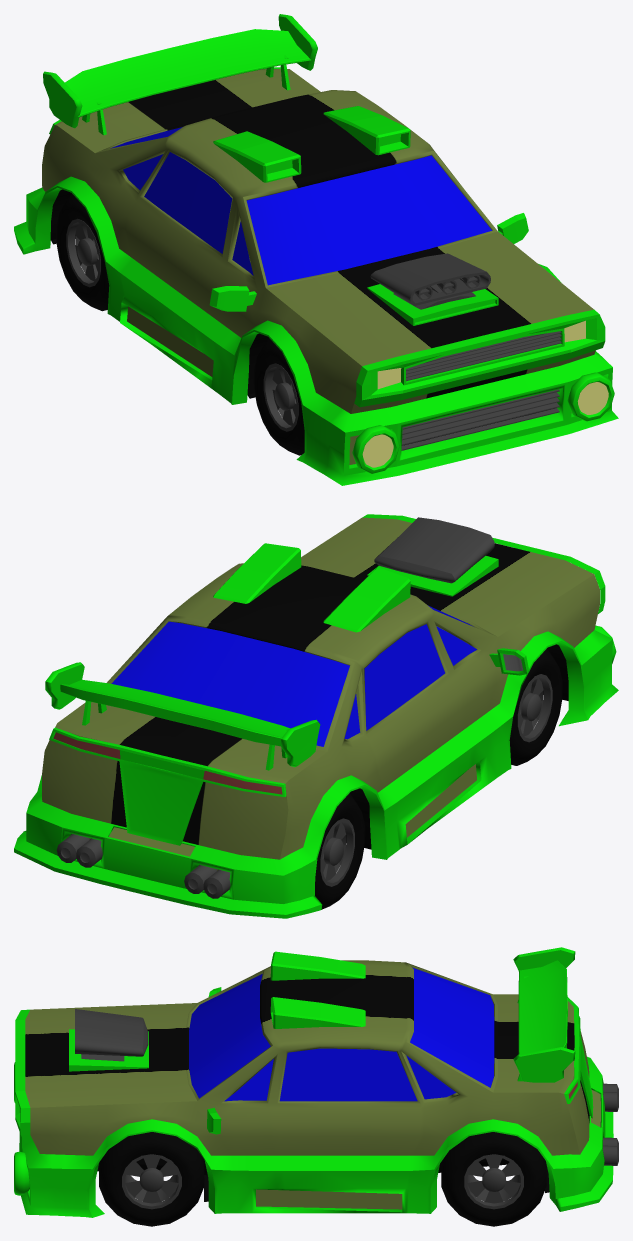
File: Muscle Evolution4 Green LineBlackKaki Blue DarkGrey.glb
3 views of the same model, one above another, from view 1: azimuth 30°, elevation 25°; view 2: azimuth 150°, elevation 25°; view 3: azimuth 270°, elevation 25° (orthographic). The views are drawn at different scales.
Parts seen in each view (by area): view 1: evo4_sillPartR_f1_dupl, evo4_evo4_polySurface1_f1_dupl, evo4_frontGlass_f1_dupl, evo4_Spoiler4_f1_dupl, evo4_frontBlockGrid_f1_dupl, evo4_glasseBigR_f1_dupl, evo4_engine_f1_dupl, evo4_front_down_grid_f1_dupl, evo4_airtrap_r_f1_dupl, evo4_airtrap_l_f1_dupl, evo4_front_up_grid_f1_dupl, evo4_tire_rf_f1_dupl (+11 smaller); view 2: evo4_sillPartR_f1_dupl, evo4_evo4_polySurface1_f1_dupl, evo4_BackGlassGlass_f1_dupl, evo4_Spoiler4_f1_dupl, evo4_blockBackLights_f1_dupl, evo4_engine_f1_dupl, evo4_glasseBigR_f1_dupl, evo4_airtrap_r_f1_dupl, evo4_airtrap_l_f1_dupl, evo4_tire_rf2_f1_dupl, evo4_tire_rf_f1_dupl, evo4_rim_A_rf_f1_dupl (+9 smaller); view 3: evo4_sillPartR_f1_dupl, evo4_evo4_polySurface1_f1_dupl, evo4_BackGlassGlass_f1_dupl, evo4_Spoiler4_f1_dupl, evo4_glasseBigL_f1_dupl, evo4_frontGlass_f1_dupl, evo4_tire_lf_f1_dupl, evo4_tire_lb_f1_dupl, evo4_engine_f1_dupl, evo4_rim_A_lf_f1_dupl, evo4_rim_A_lb_f1_dupl, evo4_airtrap_l_f1_dupl (+9 smaller).
Boxes of the visible parts, x1=… form: evo4_sillPartR_f1_dupl: x1=42, y1=69, x2=595, y2=464; evo4_evo4_polySurface1_f1_dupl: x1=14, y1=176, x2=618, y2=485; evo4_frontGlass_f1_dupl: x1=246, y1=155, x2=491, y2=285; evo4_Spoiler4_f1_dupl: x1=43, y1=14, x2=317, y2=135; evo4_frontBlockGrid_f1_dupl: x1=354, y1=309, x2=605, y2=407; evo4_glasseBigR_f1_dupl: x1=144, y1=152, x2=232, y2=253; evo4_engine_f1_dupl: x1=370, y1=253, x2=490, y2=309; evo4_front_down_grid_f1_dupl: x1=401, y1=389, x2=559, y2=450; evo4_airtrap_r_f1_dupl: x1=213, y1=131, x2=301, y2=182; evo4_airtrap_l_f1_dupl: x1=323, y1=106, x2=410, y2=155; evo4_front_up_grid_f1_dupl: x1=406, y1=331, x2=561, y2=381; evo4_tire_rf_f1_dupl: x1=56, y1=194, x2=109, y2=311; evo4_sillPartR_f1_dupl: x1=42, y1=517, x2=599, y2=870; evo4_evo4_polySurface1_f1_dupl: x1=14, y1=630, x2=618, y2=918; evo4_BackGlassGlass_f1_dupl: x1=111, y1=621, x2=349, y2=746; evo4_Spoiler4_f1_dupl: x1=45, y1=662, x2=320, y2=770; evo4_blockBackLights_f1_dupl: x1=49, y1=727, x2=286, y2=845; evo4_engine_f1_dupl: x1=374, y1=517, x2=494, y2=583; evo4_glasseBigR_f1_dupl: x1=364, y1=624, x2=444, y2=730; evo4_airtrap_r_f1_dupl: x1=323, y1=567, x2=410, y2=632; evo4_airtrap_l_f1_dupl: x1=213, y1=543, x2=301, y2=603; evo4_tire_rf2_f1_dupl: x1=509, y1=648, x2=562, y2=765; evo4_tire_rf_f1_dupl: x1=315, y1=793, x2=365, y2=909; evo4_rim_A_rf_f1_dupl: x1=517, y1=674, x2=552, y2=742; evo4_sillPartR_f1_dupl: x1=25, y1=960, x2=600, y2=1209; evo4_evo4_polySurface1_f1_dupl: x1=19, y1=1056, x2=613, y2=1217; evo4_BackGlassGlass_f1_dupl: x1=410, y1=967, x2=494, y2=1087; evo4_Spoiler4_f1_dupl: x1=513, y1=947, x2=575, y2=1082; evo4_glasseBigL_f1_dupl: x1=279, y1=1048, x2=417, y2=1101; evo4_frontGlass_f1_dupl: x1=189, y1=974, x2=270, y2=1098; evo4_tire_lf_f1_dupl: x1=99, y1=1132, x2=204, y2=1226; evo4_tire_lb_f1_dupl: x1=441, y1=1132, x2=546, y2=1226; evo4_engine_f1_dupl: x1=75, y1=1009, x2=148, y2=1061; evo4_rim_A_lf_f1_dupl: x1=122, y1=1154, x2=181, y2=1209; evo4_rim_A_lb_f1_dupl: x1=464, y1=1154, x2=523, y2=1209; evo4_airtrap_l_f1_dupl: x1=270, y1=997, x2=365, y2=1028.
Bounding box in the file's own units: 177 × 120 × 337.
Materials: 8 (1 with a texture image).
